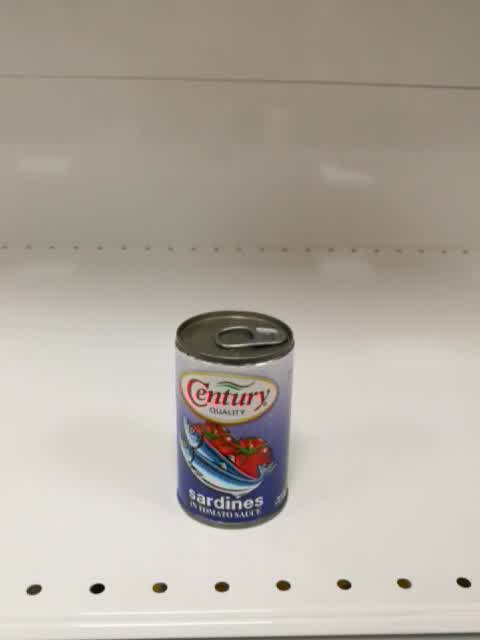sardine: (172, 308, 298, 533)
